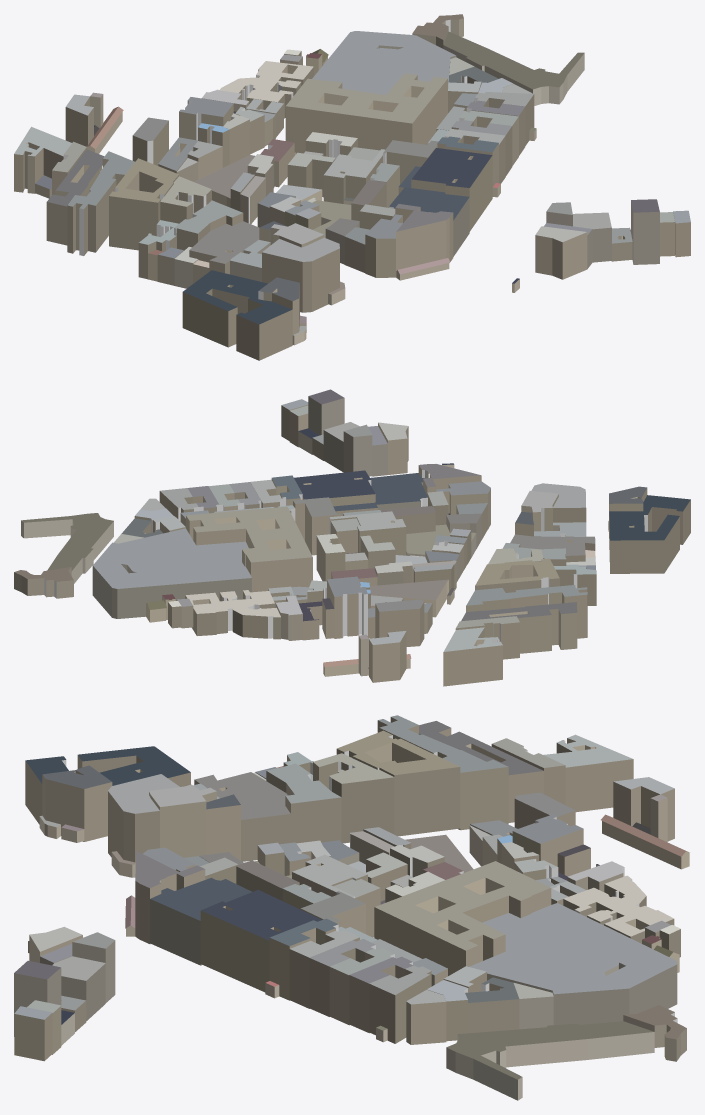
3 renders of one model, top to bottom at view 1: azimuth 30°, elevation 25°; view 2: azimuth 150°, elevation 25°; view 3: azimuth 270°, elevation 25°, orthographic. The views are drawn at different scales.
Parts seen in each view (by area): view 1: tuile; view 2: tuile; view 3: tuile.
Part boxes in pixels (x1,y1,x2,y2): tuile: (14,14,690,360); tuile: (14,389,690,686); tuile: (14,715,689,1100).
Bounding box in the file's own units: 310 × 31.44 × 260.
